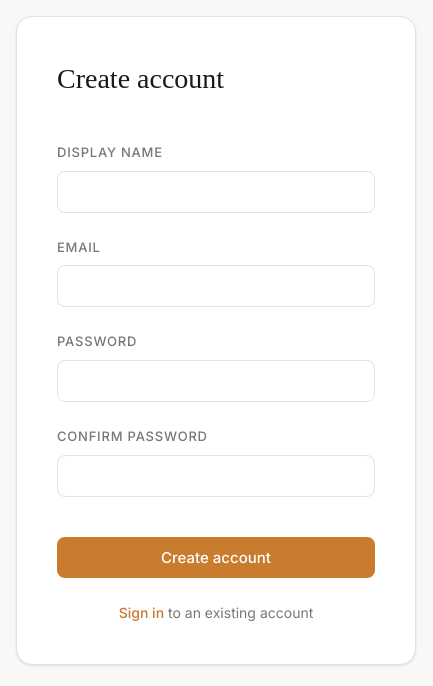
Test: RegisterPage › shows error when passwords do not match
Type "Alice" into the field labelled "Display name" at (216, 192), box [57, 171, 375, 213]
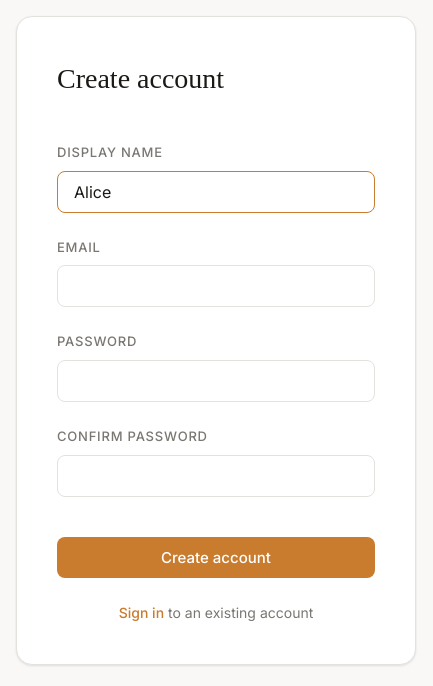
Type "alice@example.com" into the field labelled "Email" at (216, 286), box [57, 265, 375, 307]
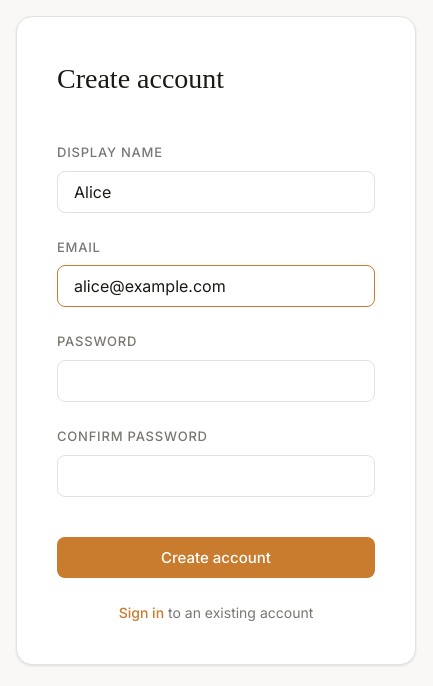
Type "Pass123!" into the password field labelled "Password" at (216, 381), box [57, 360, 375, 402]
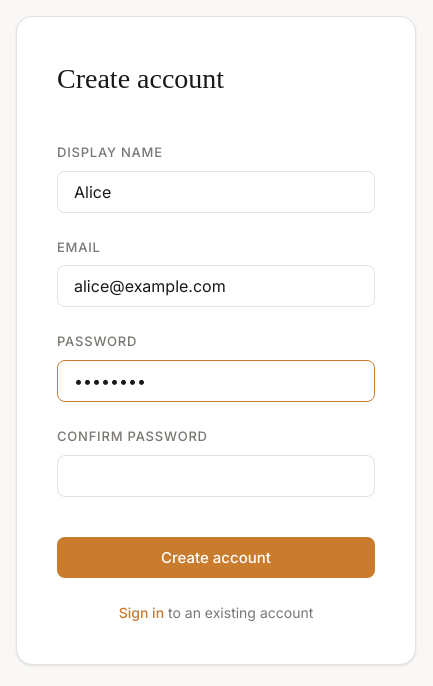
Type "Different!" into the password field labelled "Confirm password" at (216, 476), box [57, 455, 375, 497]
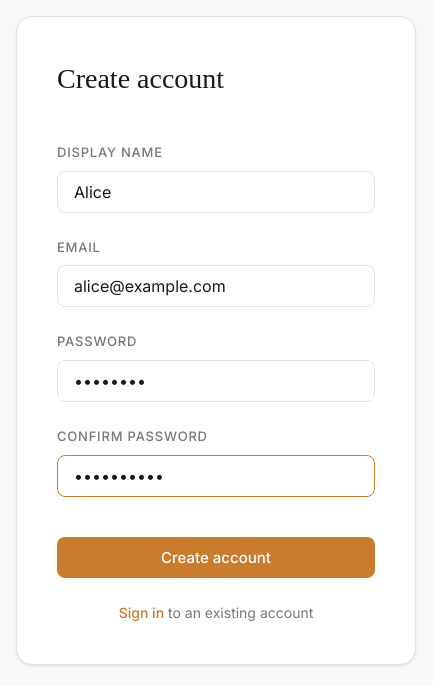
Click the button "Create account" at (216, 558), box [57, 537, 375, 578]
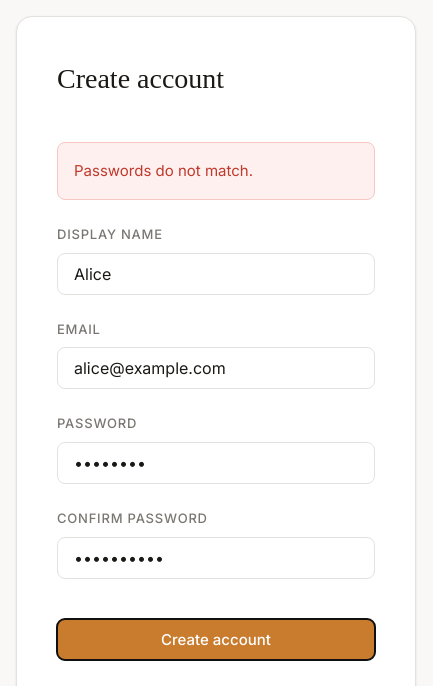
Expected: the text "Passwords do not match." is shown, [57, 142, 375, 200]
